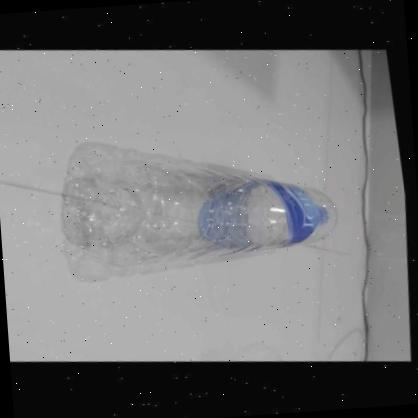bottle: (52, 160, 346, 286)
label: (245, 178, 331, 254)
